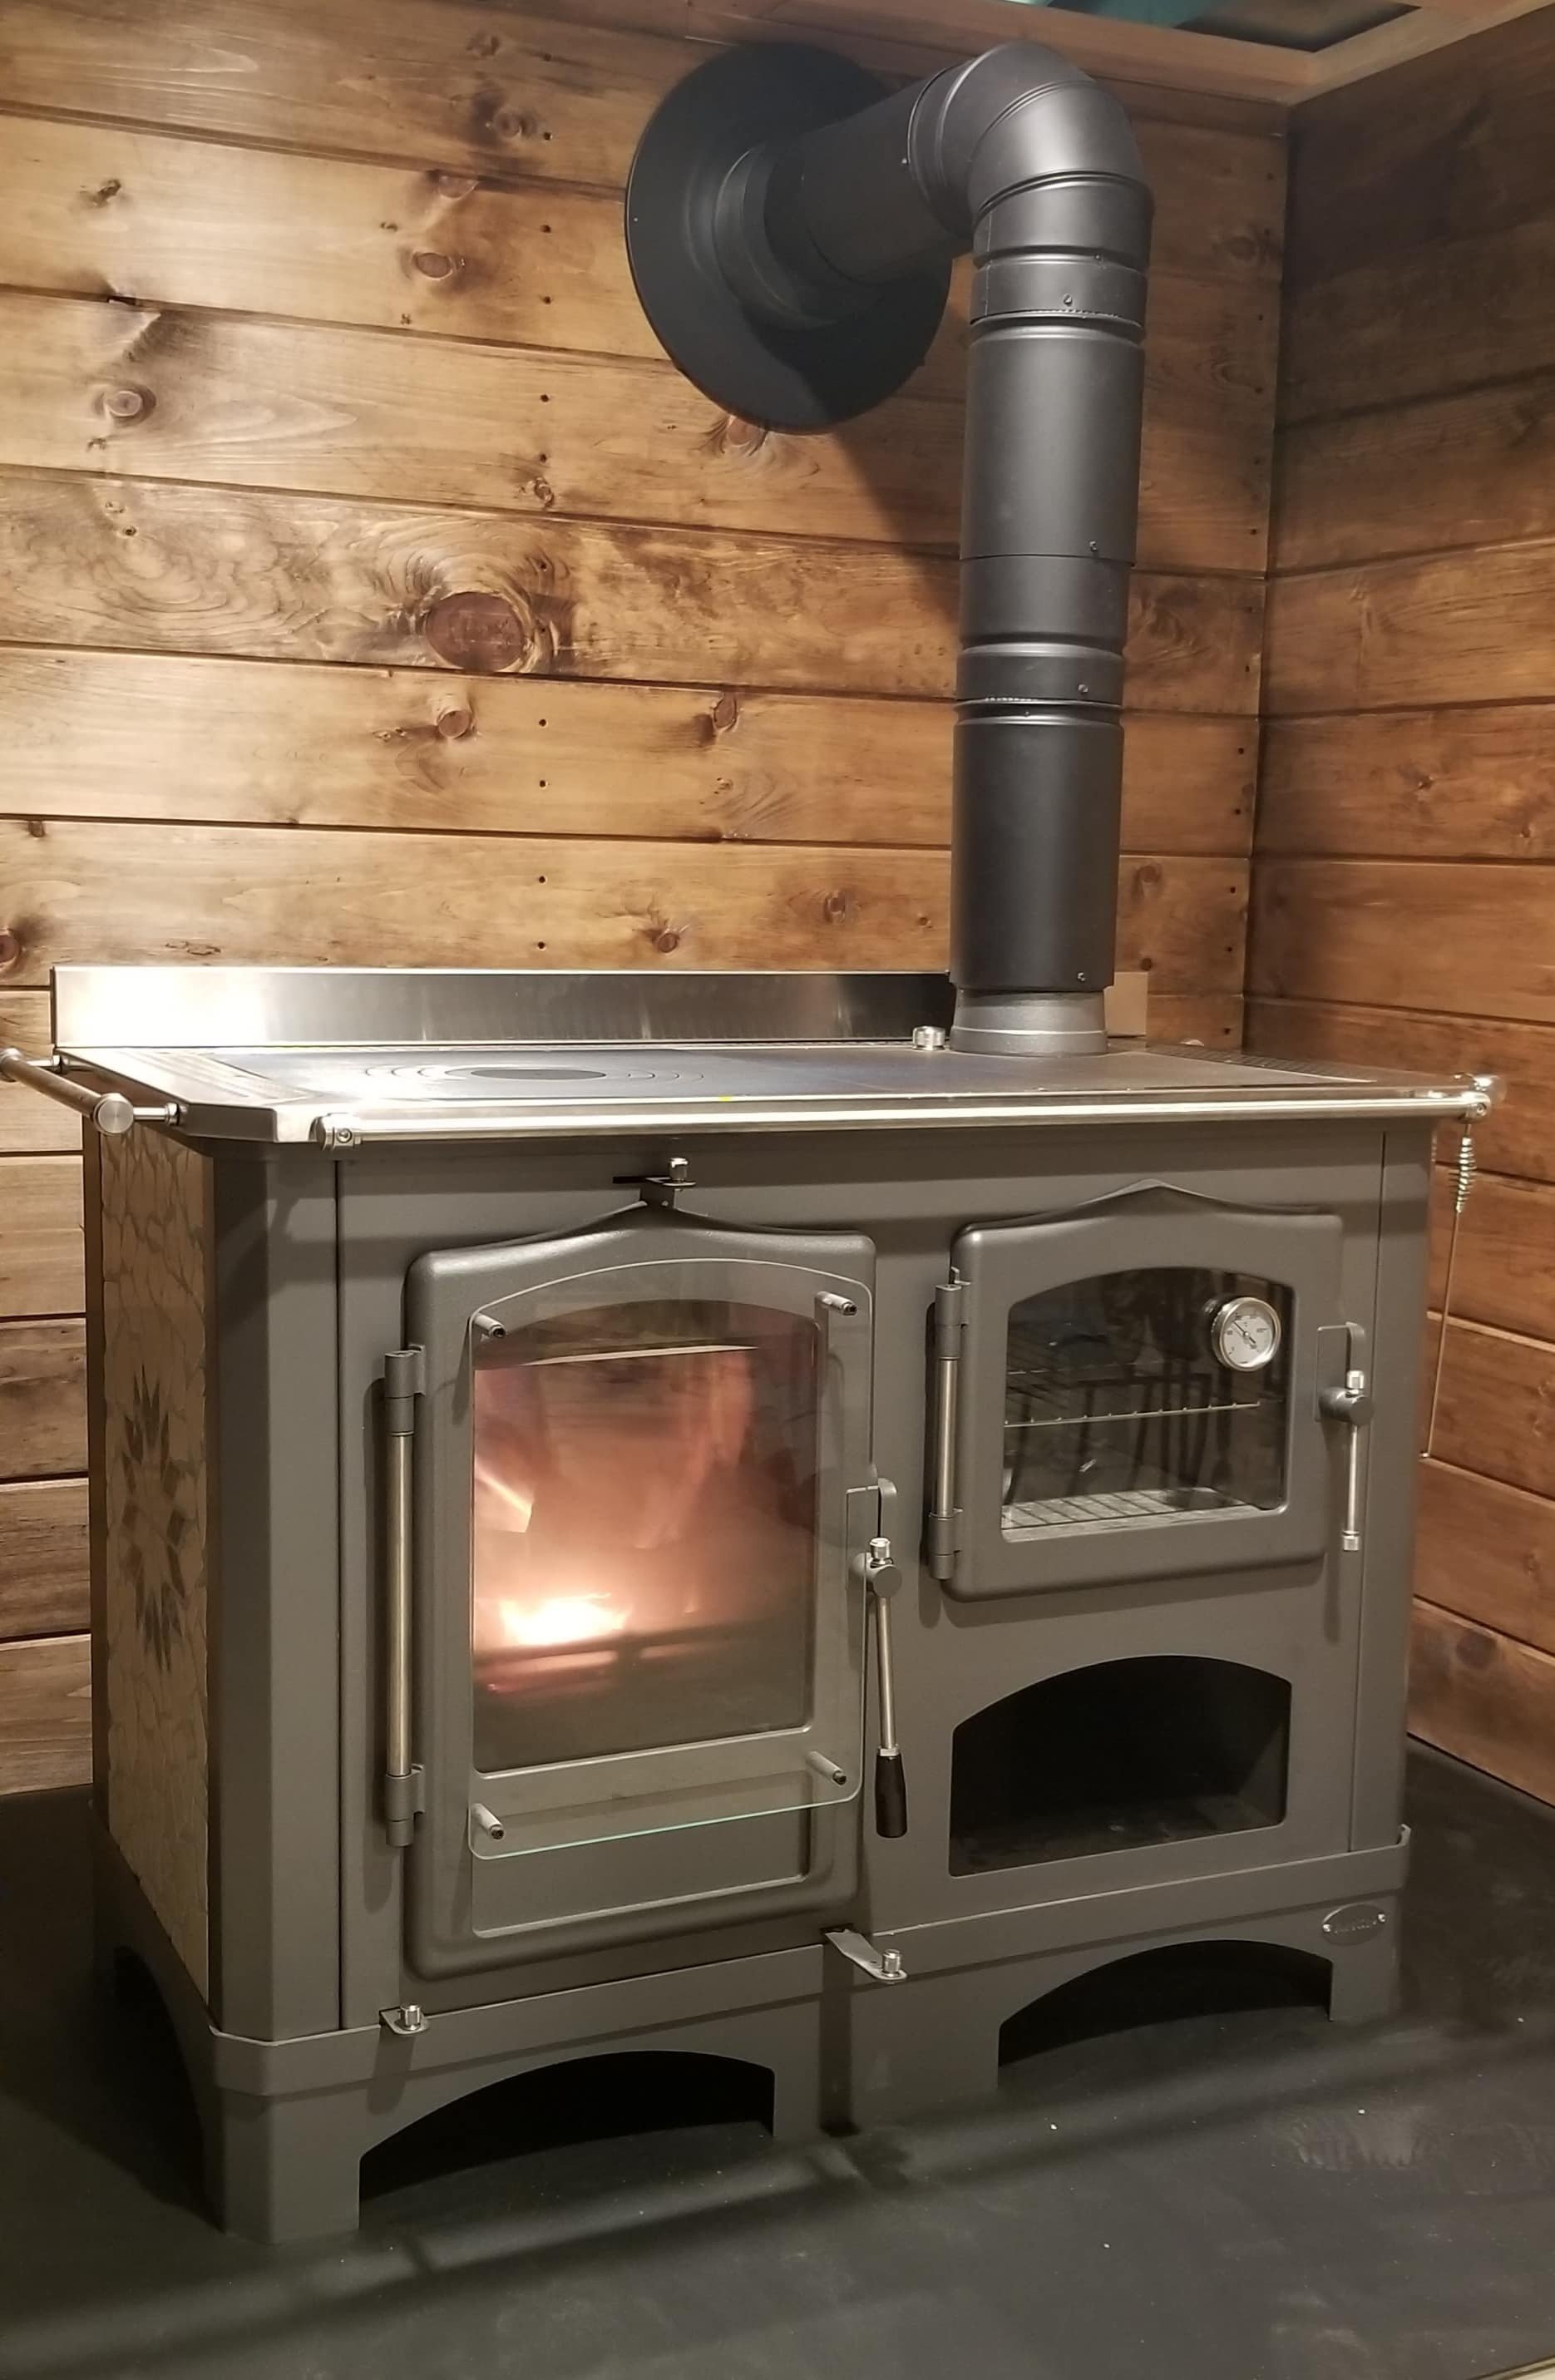stove: (61, 751, 1437, 2066)
